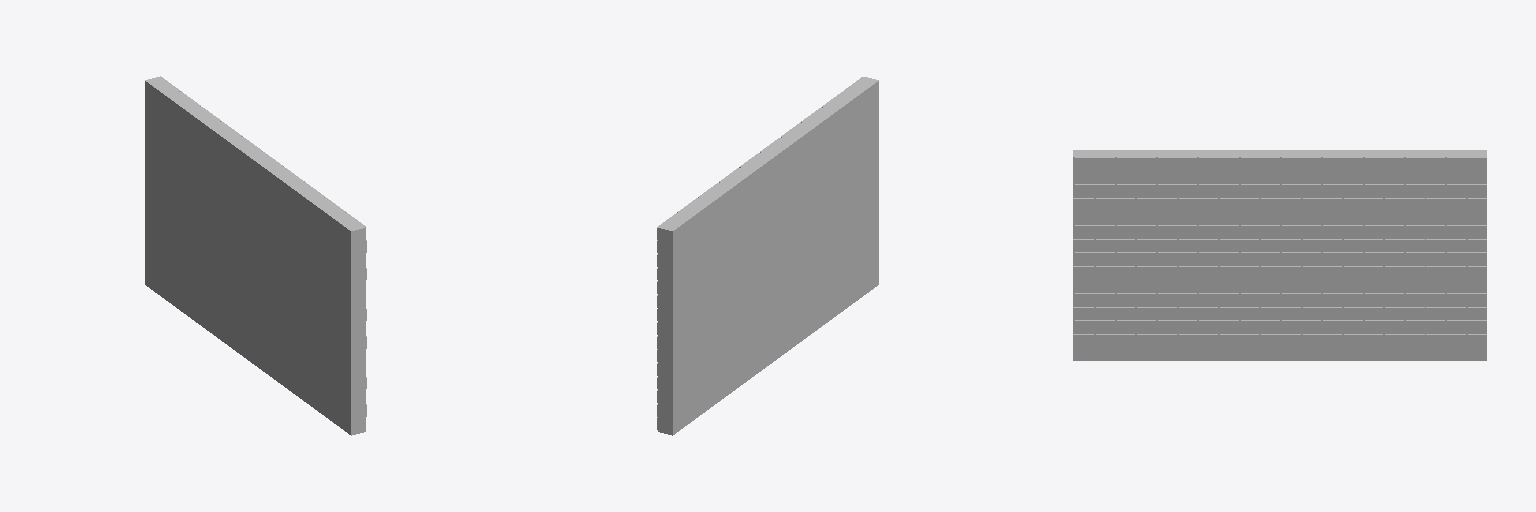
File: brick_wall.obj
3 views of the same model, side by side, from view 1: azimuth 30°, elevation 25°; view 2: azimuth 150°, elevation 25°; view 3: azimuth 270°, elevation 25° (orthographic).
Visible parts, largest first — view 1: object 1; view 2: object 1; view 3: object 1.
Boxes of the visible parts, box(x1,y1,x2,y2) form: object 1: box(145, 76, 366, 435); object 1: box(657, 77, 878, 435); object 1: box(1073, 150, 1486, 360).
Size of the model in its own units: 1 by 12 by 22.